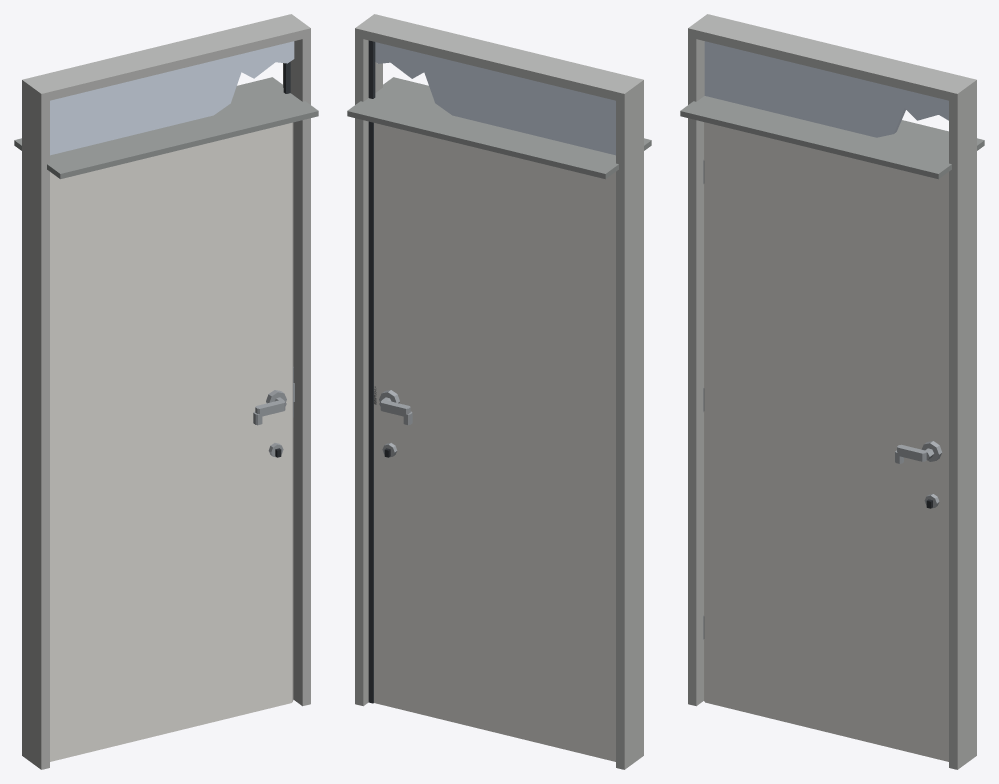
File: Updated bathroom door.fbx
3 views of the same model, side by side, from view 1: azimuth 30°, elevation 25°; view 2: azimuth 150°, elevation 25°; view 3: azimuth 330°, elevation 25° (orthographic).
Visible parts, largest first — view 1: Door, Door frame, Glass panel, Window ledge; view 2: Door, Door frame, Glass panel, Window ledge; view 3: Door, Door frame, Glass panel, Window ledge.
Boxes of the visible parts, box(x1,y1,x2,y2) form: Door: box(50, 122, 294, 761); Door frame: box(22, 14, 310, 769); Glass panel: box(50, 41, 294, 155); Window ledge: box(14, 77, 318, 179); Door: box(374, 123, 615, 761); Door frame: box(355, 14, 643, 769); Glass panel: box(375, 42, 615, 155); Window ledge: box(347, 77, 651, 179); Door: box(703, 122, 948, 761); Door frame: box(688, 14, 976, 769); Glass panel: box(704, 41, 948, 137); Window ledge: box(680, 96, 984, 179).
Size of the model in its own units: 96 by 230 by 28.52.
Materials: 3 (3 with a texture image).
